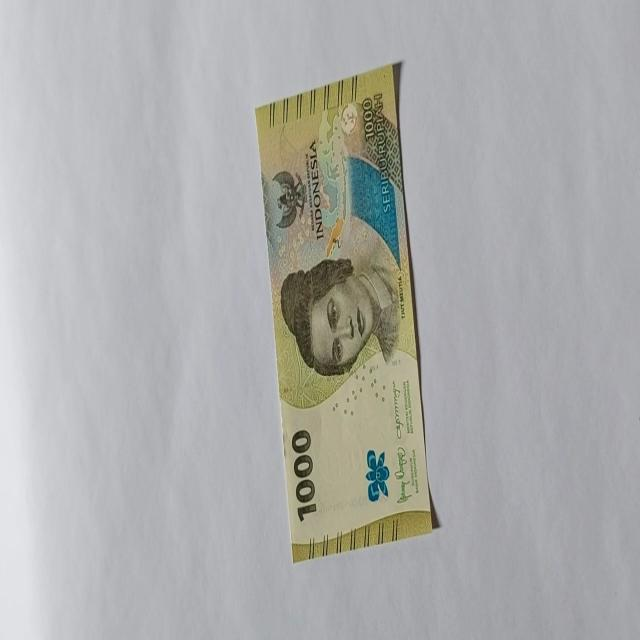seribu rupiah kertas: (254, 62, 434, 563)
